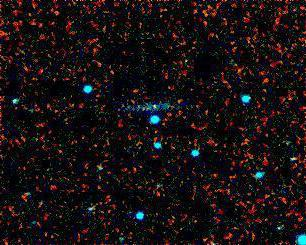star: (142, 90, 172, 120)
